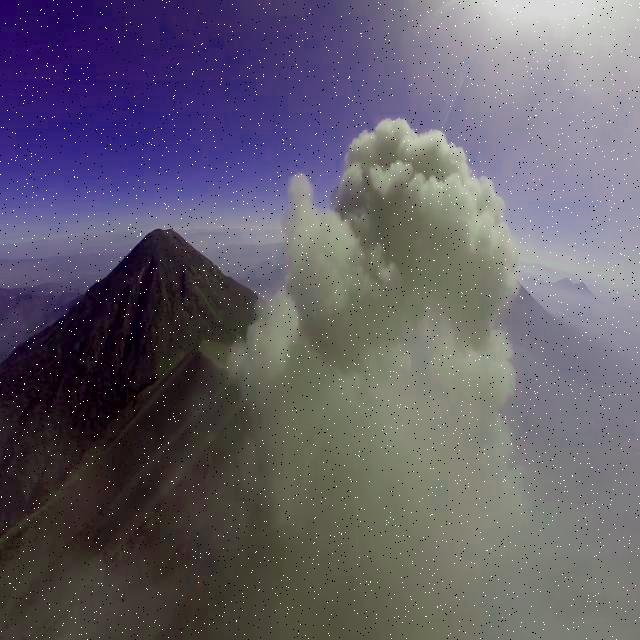Plume: (208, 102, 594, 640)
